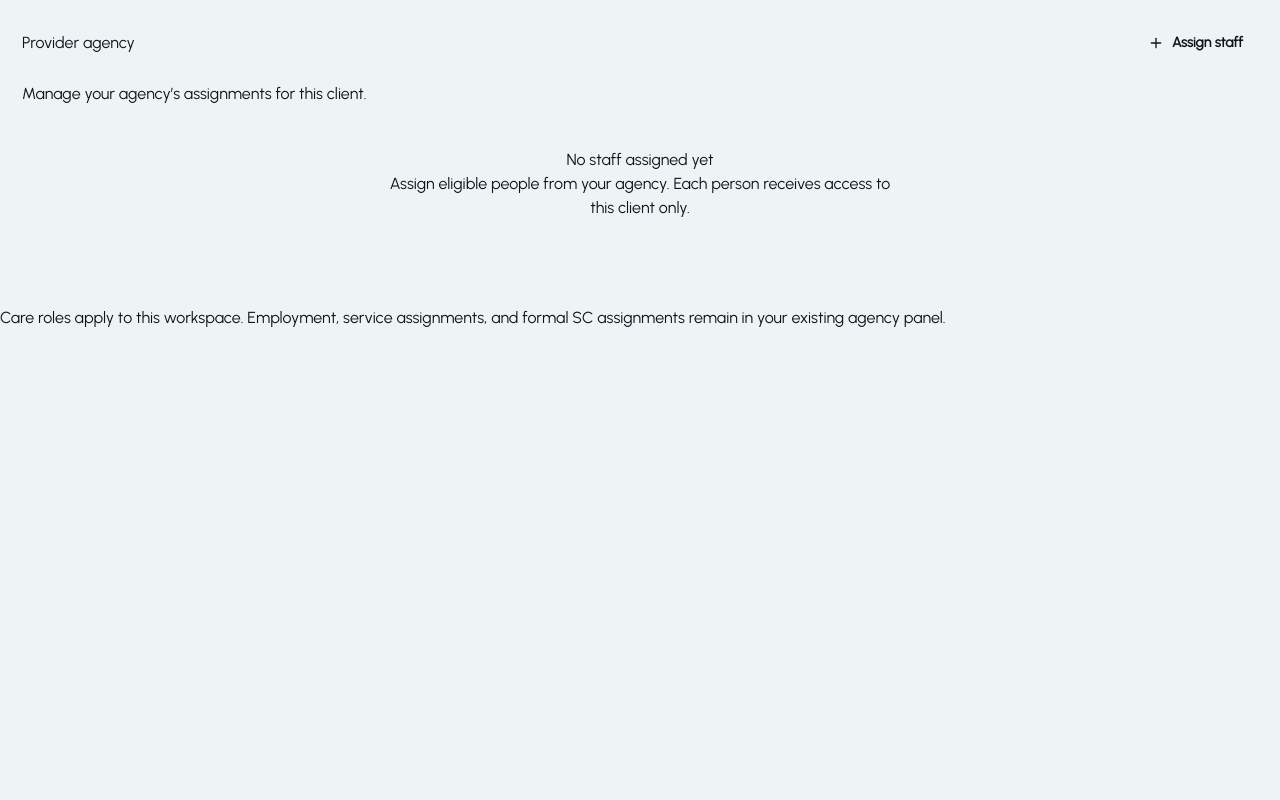
Test: reconciles an unknown save using exactly the frozen command and operation receipt
This screenshot has width=1280, height=800.
Click the button "Assign staff": coordinates (1196, 43) [1133,22,1258,64]
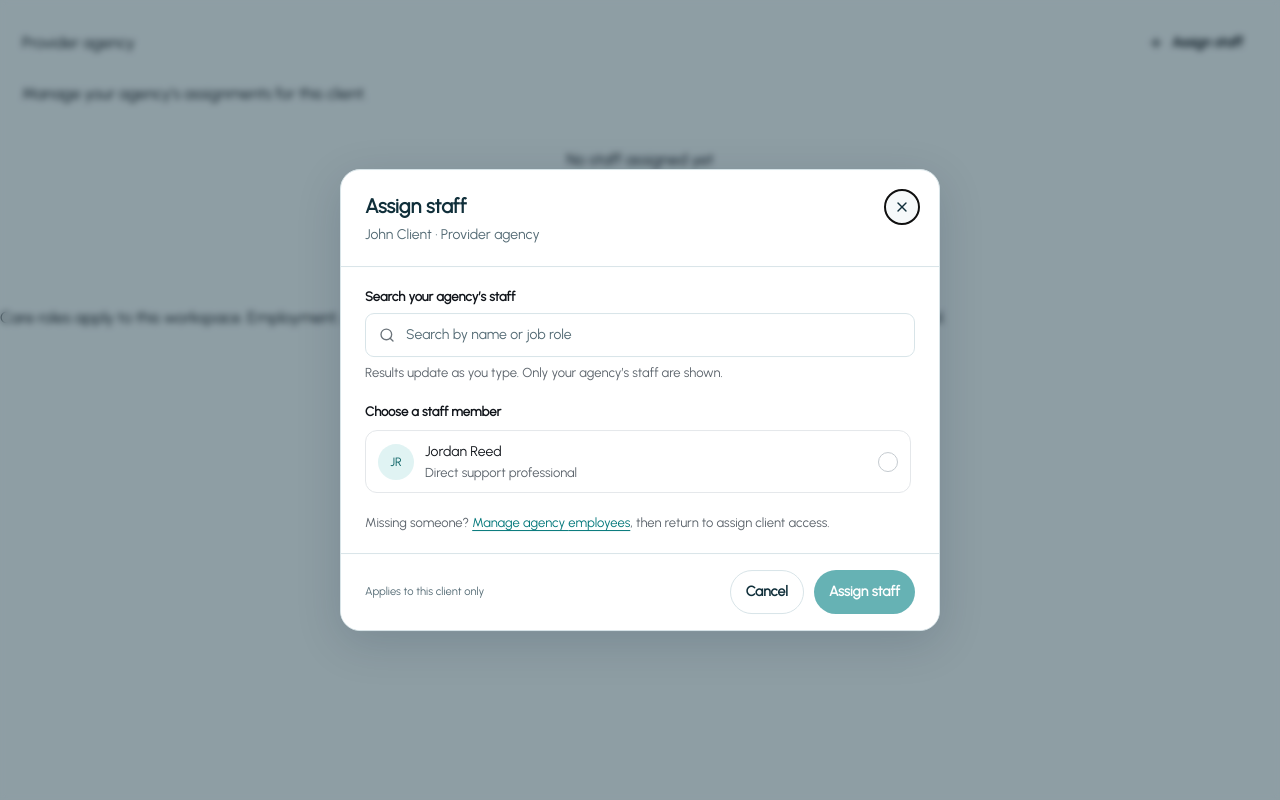
Click the radio button with aria-label "Select Jordan Reed": coordinates (888, 462) [878,452,898,472]
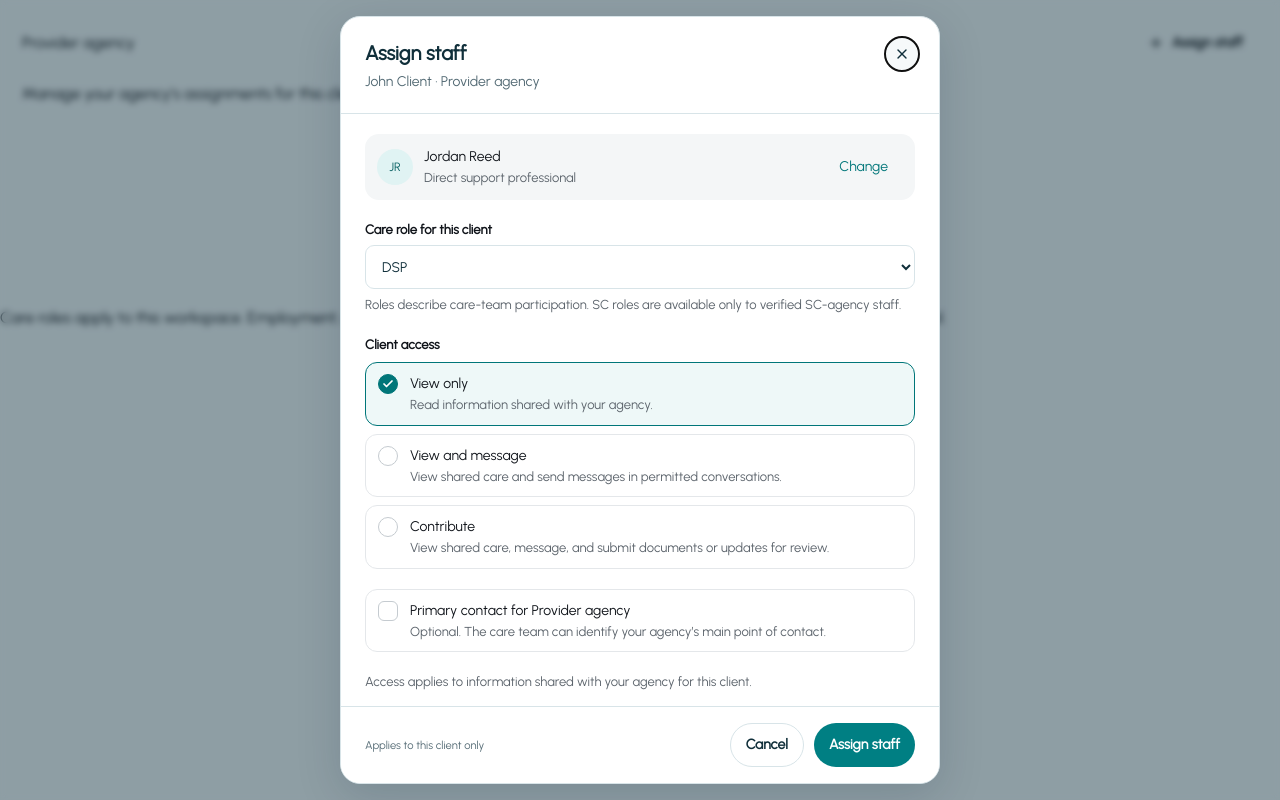
Click the button "Assign staff": coordinates (864, 745) [814,723,915,767]
(page scrolled)
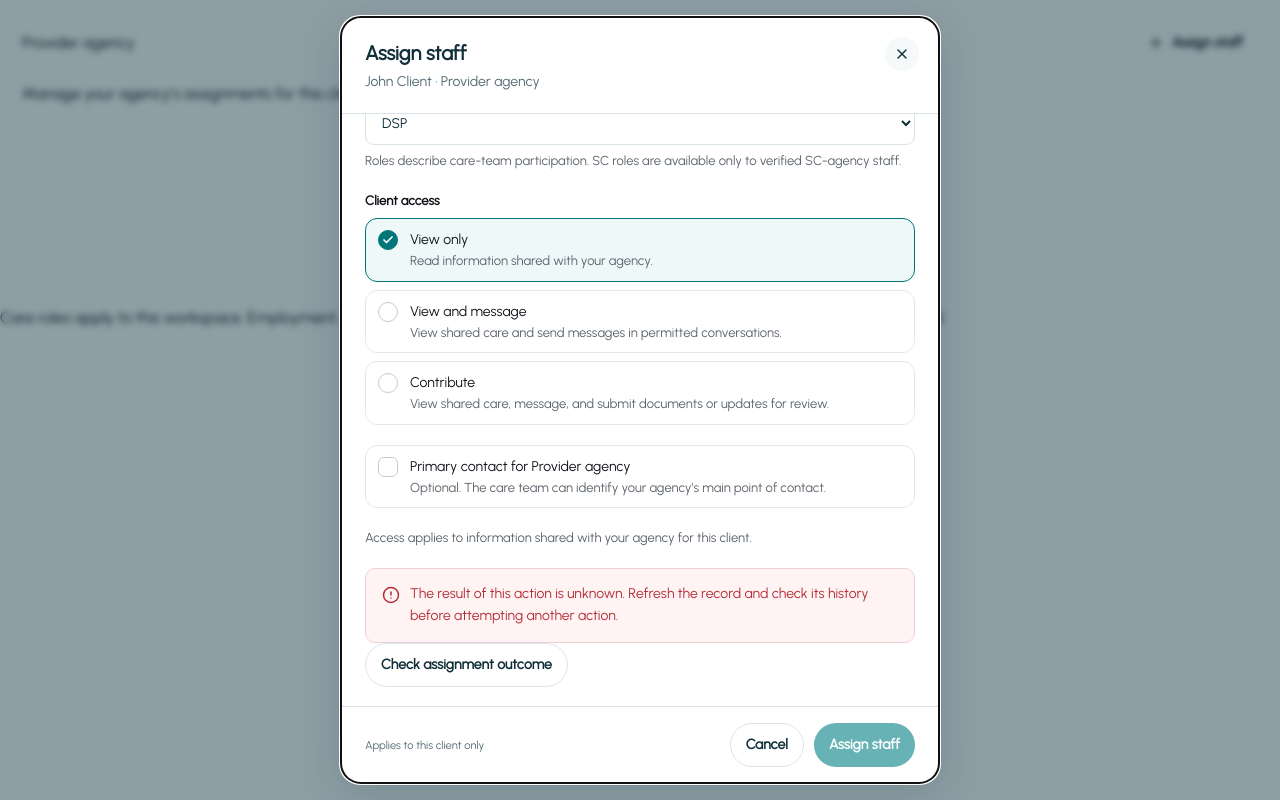
Click the button "Check assignment outcome": coordinates (466, 665) [365,643,568,687]
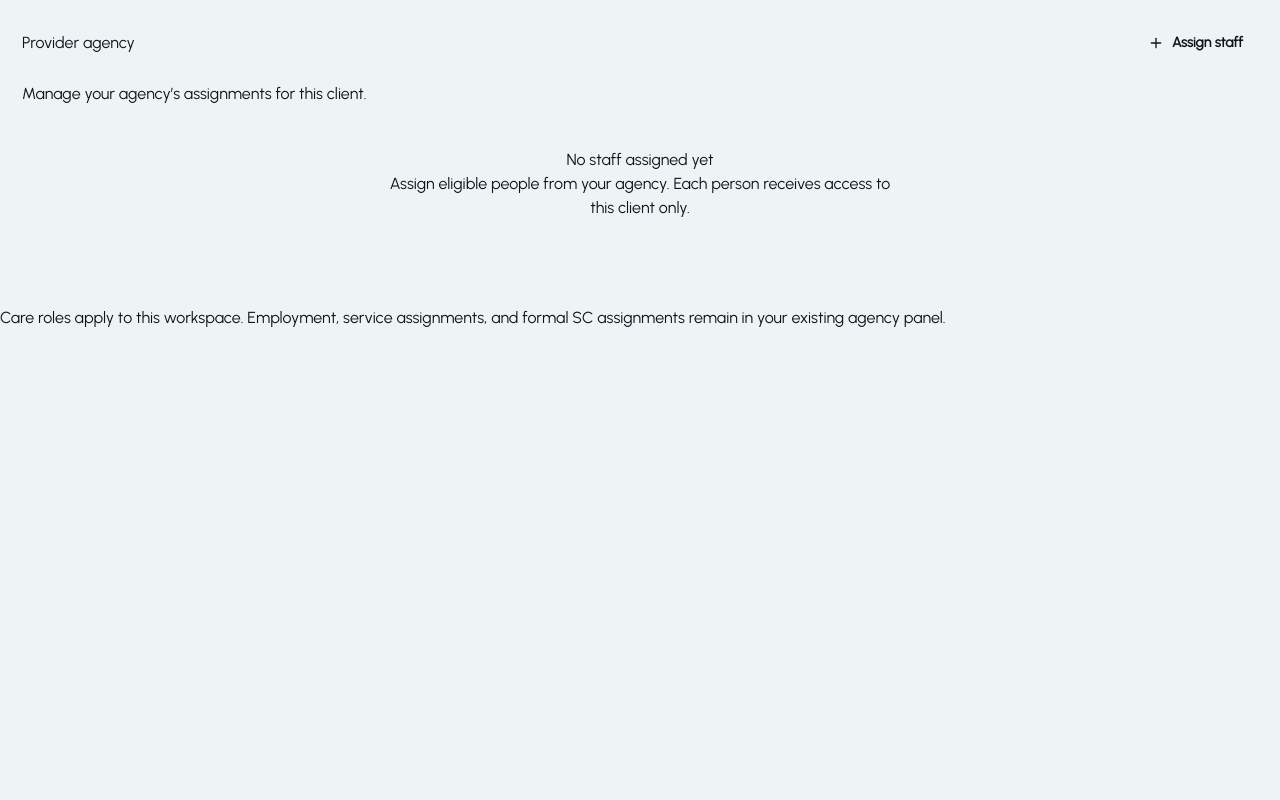
expect the dialog is gone: met
